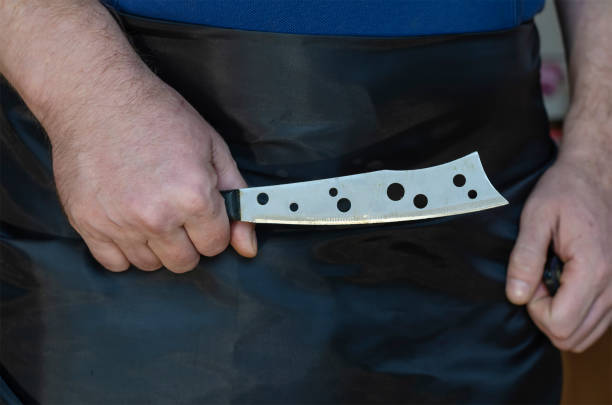knife: (219, 151, 511, 226)
